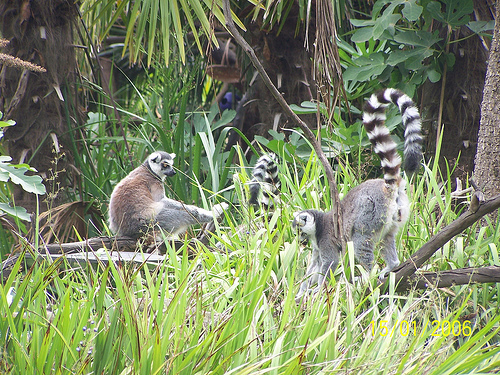cat: (290, 87, 424, 290), (110, 151, 219, 236)
